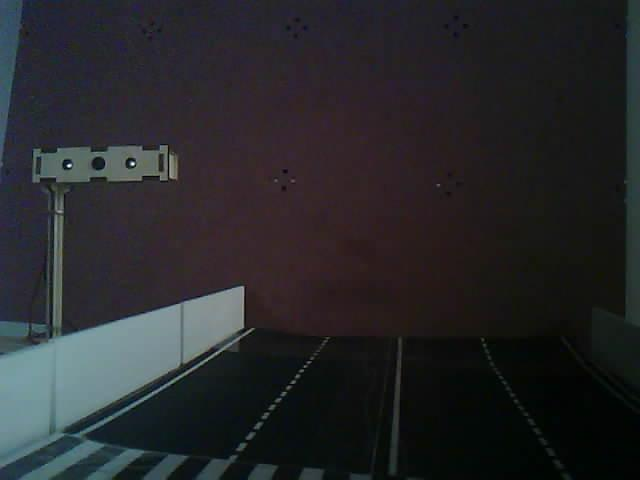crosswalk: (1, 385, 640, 479)
no: (21, 124, 215, 221)
